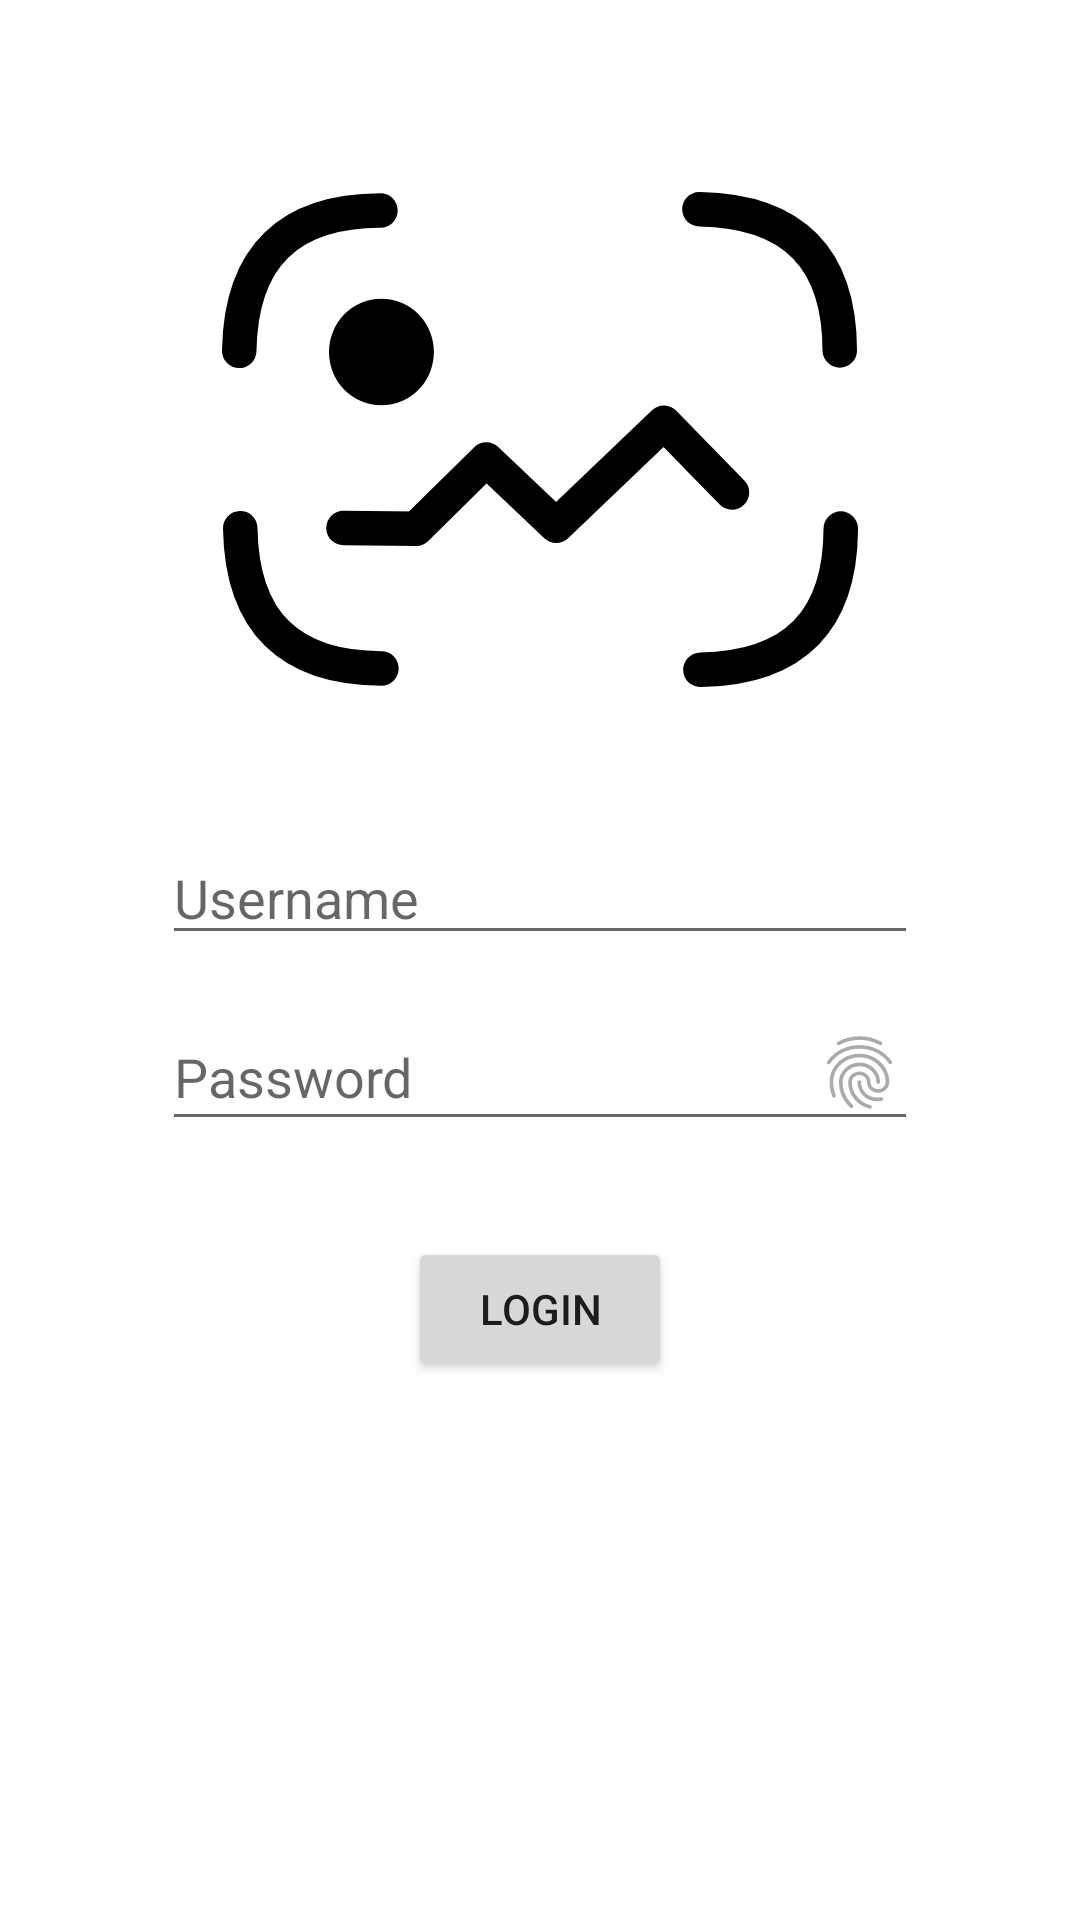

Point at icon controls on the screen. Image size 1080 x 1920, points as (x=x, y=y).
fingerprint: (x=859, y=1072)
